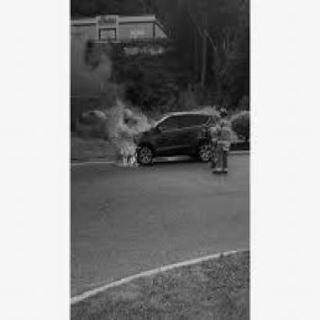Fire: (104, 100, 150, 167)
other: (218, 121, 230, 129)
